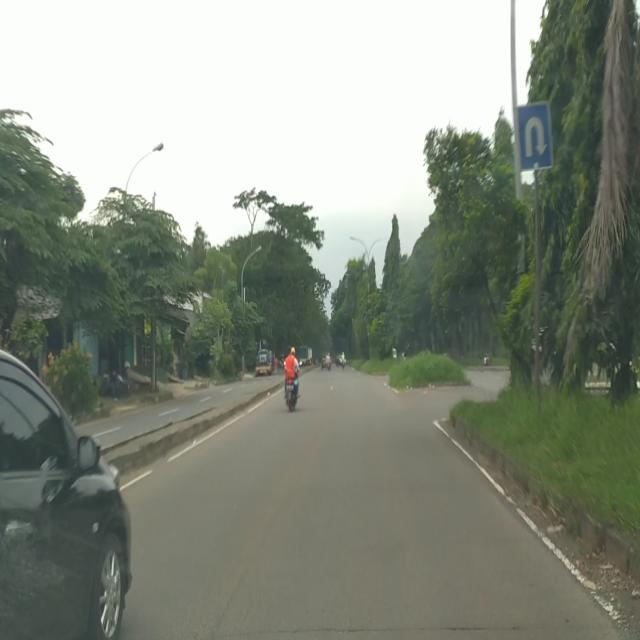Sewer Cover: (263, 621, 583, 635)
